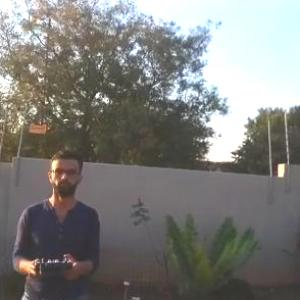follow: (8, 144, 106, 299)
